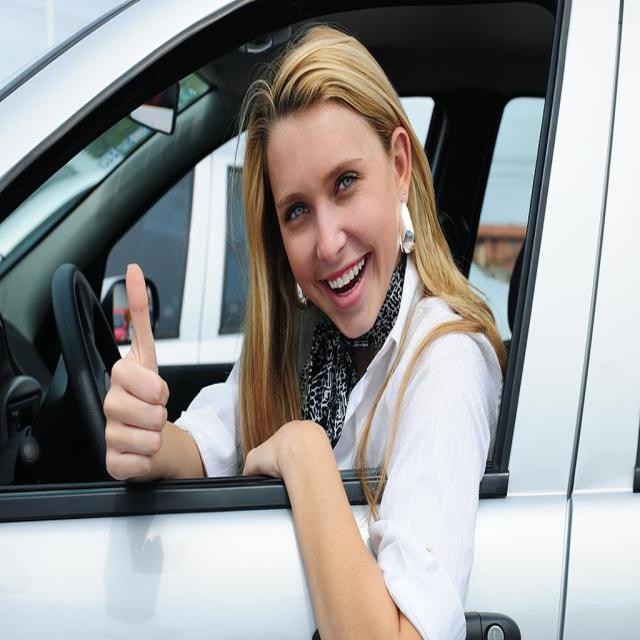Face: (248, 95, 420, 343)
